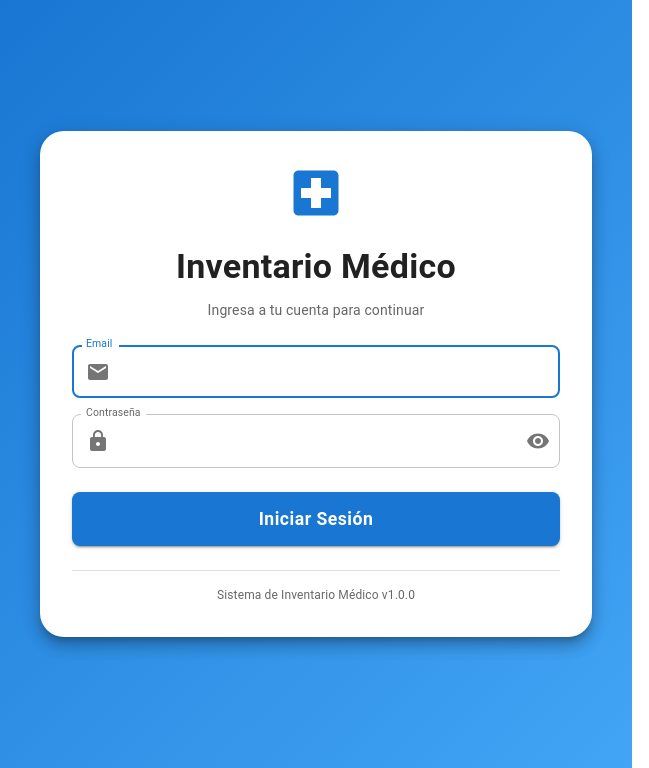
Test: LoginPage Integration Test › should display generic error message for other server errors
Type "test@example.com" into the field labelled "Email". click: (339, 372)
box: [118, 345, 560, 398]
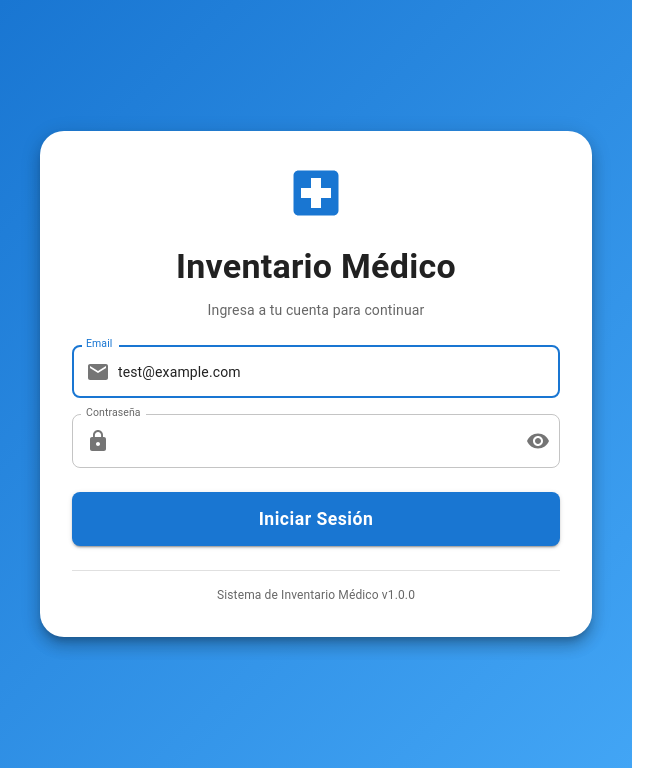
Type "password123" into the password field labelled "Contraseña". click: (314, 441)
box: [118, 414, 510, 468]
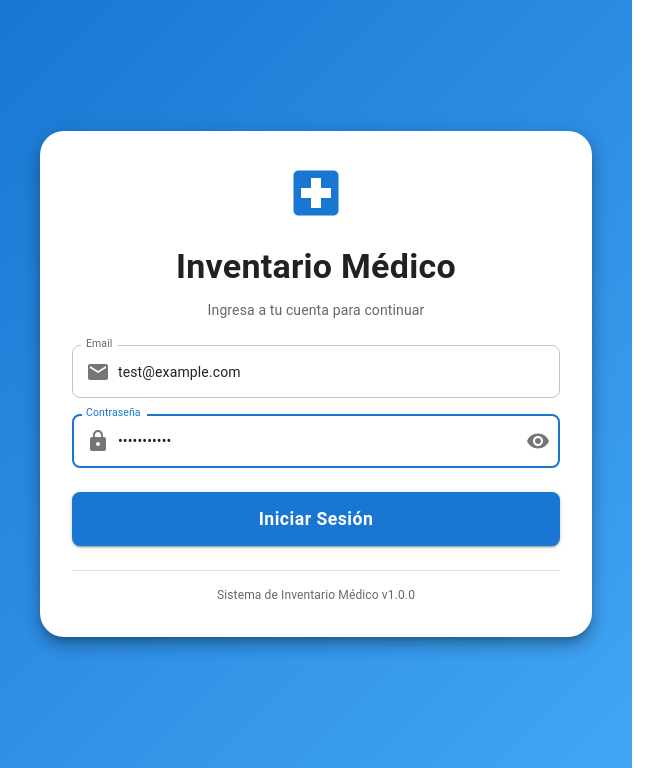
Click the button "Iniciar Sesión". click: (316, 519)
box: [72, 492, 560, 546]
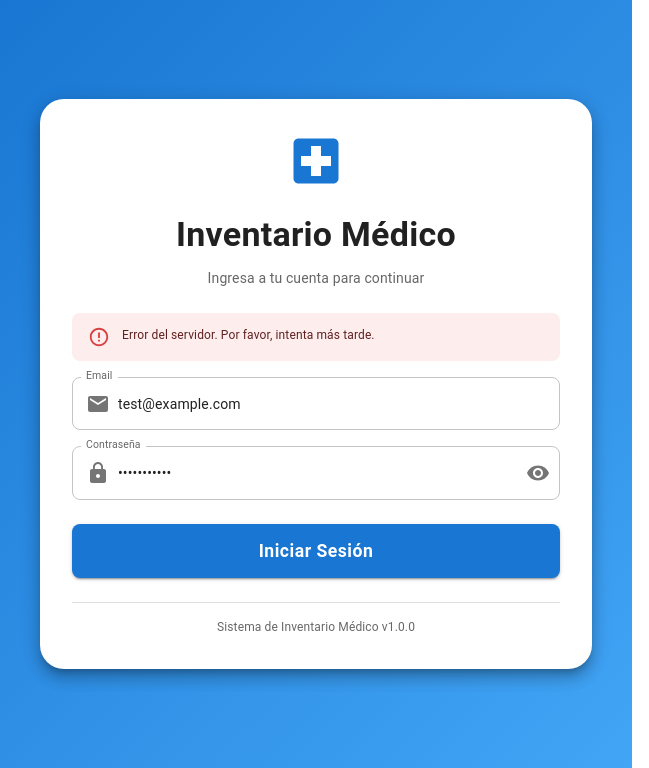
Expected: the text "Error del servidor. Por favor, intenta más tarde." is shown, [122, 328, 375, 342]
